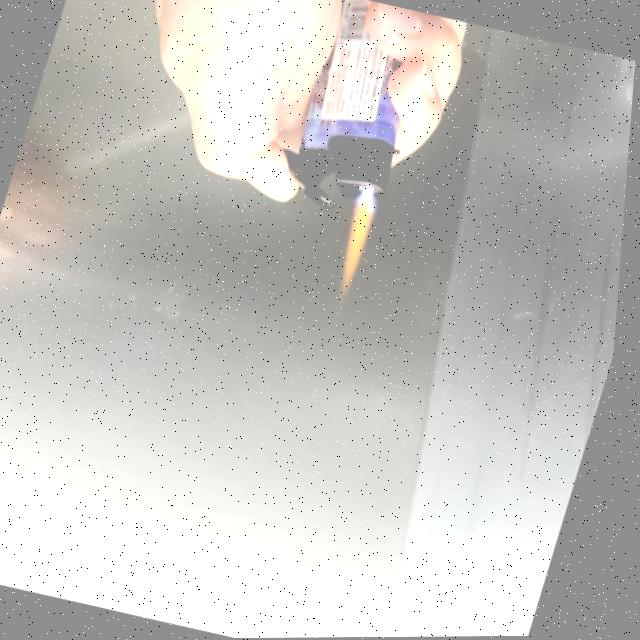Fire: (331, 190, 387, 296)
